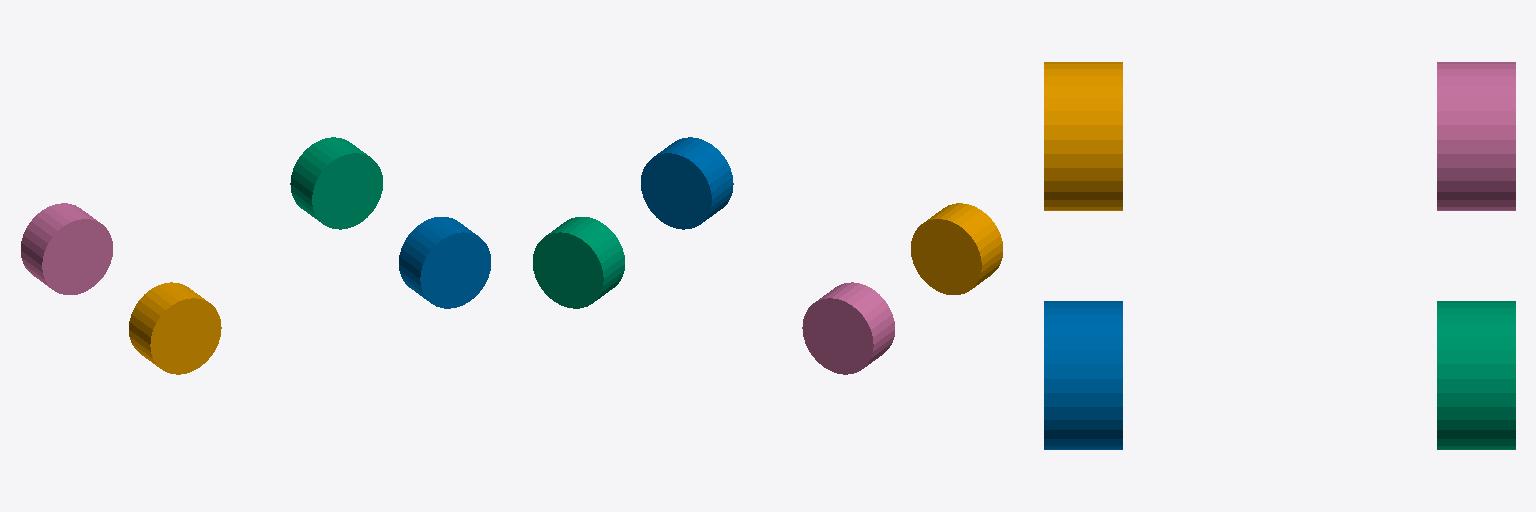
The robot description file, URDF, robot "DonkeyRobot":
<?xml version="1.0" ?>
<!-- =================================================================================== -->
<!-- |    This document was autogenerated by xacro from [local-path]/chonk/src/donkey_description/urdf/donkey.urdf.xacro | -->
<!-- |    EDITING THIS FILE BY HAND IS NOT RECOMMENDED                                 | -->
<!-- =================================================================================== -->
<robot name="DonkeyRobot">
  <!-- Base link-->
  <link name="base_link"/>
  <link name="donkey_base">
    <inertial>
      <mass value="200.0"/>
      <origin rpy="0 0 0" xyz="0.0 0.0 0.4485"/>
      <inertia ixx="21.14963333333333" ixy="0.0" ixz="0.0" iyy="29.71963333333333" iyz="0.0" izz="25.23163333333333"/>
    </inertial>
    <visual>
      <origin rpy="0 0 0" xyz="0.0 0.0 0.0"/>
      <geometry>
        <mesh filename="package://donkey_description/meshes/donkey_colourised_decimated.dae"/>
      </geometry>
    </visual>
    <collision>
      <origin rpy="0 0 0" xyz="0.0 0.0 0.4885"/>
      <geometry>
        <box size="1.007 0.707 0.727"/>
      </geometry>
    </collision>
  </link>
  <gazebo reference="donkey_base">
    <dampingFactor>0.001</dampingFactor>
  </gazebo>
  <joint name="donkey_base_link_joint" type="fixed">
    <child link="donkey_base"/>
    <parent link="base_link"/>
    <origin rpy="0 0 0" xyz="0 0 0"/>
  </joint>
  <link name="fl_wheel_link">
    <inertial>
      <mass value="8.0"/>
      <origin rpy="1.5707963267948966 0 0" xyz="0 0 0"/>
      <inertia ixx="0.024716666666666668" ixy="0" ixz="0" iyy="0.024716666666666668" iyz="0" izz="0.0361"/>
    </inertial>
    <visual>
      <origin rpy="1.5707963267948966 0 0" xyz="0 0 0"/>
      <geometry>
        <cylinder length="0.1" radius="0.095"/>
      </geometry>
    </visual>
  </link>
  <joint name="fl_wheel_joint" type="continuous">
    <axis xyz="0 1 0"/>
    <limit effort="100" velocity="100"/>
    <dynamics damping="0.0" friction="0.0"/>
    <safety_controller k_velocity="10.0"/>
    <origin rpy="0 0 0" xyz="0.36 0.25 0.095"/>
    <parent link="donkey_base"/>
    <child link="fl_wheel_link"/>
  </joint>
  <link name="fl_wheel_link_passive">
    <inertial>
      <mass value="1.0"/>
      <origin rpy="0 0 0" xyz="0 0 0"/>
      <inertia ixx="0.003610000000000001" ixy="0" ixz="0" iyy="0.003610000000000001" iyz="0" izz="0.003610000000000001"/>
    </inertial>
    <collision>
      <origin rpy="0 0 0" xyz="0 0 0"/>
      <geometry>
        <sphere radius="0.095"/>
      </geometry>
    </collision>
  </link>
  <joint name="fl_wheel_link_passive_joint" type="continuous">
    <axis xyz="0 1 0"/>
    <limit effort="100" velocity="100.0"/>
    <dynamics damping="0.0" friction="0.0"/>
    <safety_controller k_velocity="10.0"/>
    <origin rpy="0 0 0" xyz="0 0 0"/>
    <parent link="fl_wheel_link"/>
    <child link="fl_wheel_link_passive"/>
  </joint>
  <gazebo reference="fl_wheel_link_passive_joint">
    <implicitSpringDamper>1</implicitSpringDamper>
  </gazebo>
  <!-- Passive joint transmission with effort interface.
             Workaround to get all joints to publish a state.
             Do NOT use these joints for control! -->
  <transmission name="fl_wheel_link_passive_joint_trans">
    <type>transmission_interface/SimpleTransmission</type>
    <joint name="fl_wheel_link_passive_joint">
      <hardwareInterface>hardware_interface/EffortJointInterface</hardwareInterface>
    </joint>
    <actuator name="fl_wheel_link_passive_joint_motor">
      <mechanicalReduction>1</mechanicalReduction>
    </actuator>
  </transmission>
  <!-- Contact properties -->
  <gazebo reference="fl_wheel_link_passive">
    <mu>5</mu>
    <mu2>5</mu2>
    <dampingFactor>0.00001</dampingFactor>
    <selfCollide>0</selfCollide>
    <kp>1e6</kp>
    <kd>1e2</kd>
    <maxVel>2.0</maxVel>
    <minDepth>0.001</minDepth>
  </gazebo>
  <gazebo>
    <!-- Mecanum plugin -->
    <plugin filename="libmecanum_gazebo_plugin.so" name="fl_wheel_controller">
      <wheelLinkName>fl_wheel_link</wheelLinkName>
      <baseLinkName>base_link</baseLinkName>
      <axis>-1 1 0</axis>
    </plugin>
  </gazebo>
  <gazebo reference="fl_wheel_joint">
    <implicitSpringDamper>1</implicitSpringDamper>
  </gazebo>
  <gazebo reference="fl_wheel_link">
    <dampingFactor>0.001</dampingFactor>
  </gazebo>
  <transmission name="fl_wheel_joint_trans">
    <type>transmission_interface/SimpleTransmission</type>
    <joint name="fl_wheel_joint">
      <hardwareInterface>hardware_interface/VelocityJointInterface</hardwareInterface>
    </joint>
    <actuator name="fl_wheel_joint_motor">
      <mechanicalReduction>1</mechanicalReduction>
    </actuator>
  </transmission>
  <link name="fr_wheel_link">
    <inertial>
      <mass value="8.0"/>
      <origin rpy="1.5707963267948966 0 0" xyz="0 0 0"/>
      <inertia ixx="0.024716666666666668" ixy="0" ixz="0" iyy="0.024716666666666668" iyz="0" izz="0.0361"/>
    </inertial>
    <visual>
      <origin rpy="1.5707963267948966 0 0" xyz="0 0 0"/>
      <geometry>
        <cylinder length="0.1" radius="0.095"/>
      </geometry>
    </visual>
  </link>
  <joint name="fr_wheel_joint" type="continuous">
    <axis xyz="0 1 0"/>
    <limit effort="100" velocity="100"/>
    <dynamics damping="0.0" friction="0.0"/>
    <safety_controller k_velocity="10.0"/>
    <origin rpy="0 0 0" xyz="0.36 -0.25 0.095"/>
    <parent link="donkey_base"/>
    <child link="fr_wheel_link"/>
  </joint>
  <link name="fr_wheel_link_passive">
    <inertial>
      <mass value="1.0"/>
      <origin rpy="0 0 0" xyz="0 0 0"/>
      <inertia ixx="0.003610000000000001" ixy="0" ixz="0" iyy="0.003610000000000001" iyz="0" izz="0.003610000000000001"/>
    </inertial>
    <collision>
      <origin rpy="0 0 0" xyz="0 0 0"/>
      <geometry>
        <sphere radius="0.095"/>
      </geometry>
    </collision>
  </link>
  <joint name="fr_wheel_link_passive_joint" type="continuous">
    <axis xyz="0 1 0"/>
    <limit effort="100" velocity="100.0"/>
    <dynamics damping="0.0" friction="0.0"/>
    <safety_controller k_velocity="10.0"/>
    <origin rpy="0 0 0" xyz="0 0 0"/>
    <parent link="fr_wheel_link"/>
    <child link="fr_wheel_link_passive"/>
  </joint>
  <gazebo reference="fr_wheel_link_passive_joint">
    <implicitSpringDamper>1</implicitSpringDamper>
  </gazebo>
  <!-- Passive joint transmission with effort interface.
             Workaround to get all joints to publish a state.
             Do NOT use these joints for control! -->
  <transmission name="fr_wheel_link_passive_joint_trans">
    <type>transmission_interface/SimpleTransmission</type>
    <joint name="fr_wheel_link_passive_joint">
      <hardwareInterface>hardware_interface/EffortJointInterface</hardwareInterface>
    </joint>
    <actuator name="fr_wheel_link_passive_joint_motor">
      <mechanicalReduction>1</mechanicalReduction>
    </actuator>
  </transmission>
  <!-- Contact properties -->
  <gazebo reference="fr_wheel_link_passive">
    <mu>5</mu>
    <mu2>5</mu2>
    <dampingFactor>0.00001</dampingFactor>
    <selfCollide>0</selfCollide>
    <kp>1e6</kp>
    <kd>1e2</kd>
    <maxVel>2.0</maxVel>
    <minDepth>0.001</minDepth>
  </gazebo>
  <gazebo>
    <!-- Mecanum plugin -->
    <plugin filename="libmecanum_gazebo_plugin.so" name="fr_wheel_controller">
      <wheelLinkName>fr_wheel_link</wheelLinkName>
      <baseLinkName>base_link</baseLinkName>
      <axis>-1 -1 0</axis>
    </plugin>
  </gazebo>
  <gazebo reference="fr_wheel_joint">
    <implicitSpringDamper>1</implicitSpringDamper>
  </gazebo>
  <gazebo reference="fr_wheel_link">
    <dampingFactor>0.001</dampingFactor>
  </gazebo>
  <transmission name="fr_wheel_joint_trans">
    <type>transmission_interface/SimpleTransmission</type>
    <joint name="fr_wheel_joint">
      <hardwareInterface>hardware_interface/VelocityJointInterface</hardwareInterface>
    </joint>
    <actuator name="fr_wheel_joint_motor">
      <mechanicalReduction>1</mechanicalReduction>
    </actuator>
  </transmission>
  <link name="rl_wheel_link">
    <inertial>
      <mass value="8.0"/>
      <origin rpy="1.5707963267948966 0 0" xyz="0 0 0"/>
      <inertia ixx="0.024716666666666668" ixy="0" ixz="0" iyy="0.024716666666666668" iyz="0" izz="0.0361"/>
    </inertial>
    <visual>
      <origin rpy="1.5707963267948966 0 0" xyz="0 0 0"/>
      <geometry>
        <cylinder length="0.1" radius="0.095"/>
      </geometry>
    </visual>
  </link>
  <joint name="rl_wheel_joint" type="continuous">
    <axis xyz="0 1 0"/>
    <limit effort="100" velocity="100"/>
    <dynamics damping="0.0" friction="0.0"/>
    <safety_controller k_velocity="10.0"/>
    <origin rpy="0 0 0" xyz="-0.36 0.25 0.095"/>
    <parent link="donkey_base"/>
    <child link="rl_wheel_link"/>
  </joint>
  <link name="rl_wheel_link_passive">
    <inertial>
      <mass value="1.0"/>
      <origin rpy="0 0 0" xyz="0 0 0"/>
      <inertia ixx="0.003610000000000001" ixy="0" ixz="0" iyy="0.003610000000000001" iyz="0" izz="0.003610000000000001"/>
    </inertial>
    <collision>
      <origin rpy="0 0 0" xyz="0 0 0"/>
      <geometry>
        <sphere radius="0.095"/>
      </geometry>
    </collision>
  </link>
  <joint name="rl_wheel_link_passive_joint" type="continuous">
    <axis xyz="0 1 0"/>
    <limit effort="100" velocity="100.0"/>
    <dynamics damping="0.0" friction="0.0"/>
    <safety_controller k_velocity="10.0"/>
    <origin rpy="0 0 0" xyz="0 0 0"/>
    <parent link="rl_wheel_link"/>
    <child link="rl_wheel_link_passive"/>
  </joint>
  <gazebo reference="rl_wheel_link_passive_joint">
    <implicitSpringDamper>1</implicitSpringDamper>
  </gazebo>
  <!-- Passive joint transmission with effort interface.
             Workaround to get all joints to publish a state.
             Do NOT use these joints for control! -->
  <transmission name="rl_wheel_link_passive_joint_trans">
    <type>transmission_interface/SimpleTransmission</type>
    <joint name="rl_wheel_link_passive_joint">
      <hardwareInterface>hardware_interface/EffortJointInterface</hardwareInterface>
    </joint>
    <actuator name="rl_wheel_link_passive_joint_motor">
      <mechanicalReduction>1</mechanicalReduction>
    </actuator>
  </transmission>
  <!-- Contact properties -->
  <gazebo reference="rl_wheel_link_passive">
    <mu>5</mu>
    <mu2>5</mu2>
    <dampingFactor>0.00001</dampingFactor>
    <selfCollide>0</selfCollide>
    <kp>1e6</kp>
    <kd>1e2</kd>
    <maxVel>2.0</maxVel>
    <minDepth>0.001</minDepth>
  </gazebo>
  <gazebo>
    <!-- Mecanum plugin -->
    <plugin filename="libmecanum_gazebo_plugin.so" name="rl_wheel_controller">
      <wheelLinkName>rl_wheel_link</wheelLinkName>
      <baseLinkName>base_link</baseLinkName>
      <axis>1 1 0</axis>
    </plugin>
  </gazebo>
  <gazebo reference="rl_wheel_joint">
    <implicitSpringDamper>1</implicitSpringDamper>
  </gazebo>
  <gazebo reference="rl_wheel_link">
    <dampingFactor>0.001</dampingFactor>
  </gazebo>
  <transmission name="rl_wheel_joint_trans">
    <type>transmission_interface/SimpleTransmission</type>
    <joint name="rl_wheel_joint">
      <hardwareInterface>hardware_interface/VelocityJointInterface</hardwareInterface>
    </joint>
    <actuator name="rl_wheel_joint_motor">
      <mechanicalReduction>1</mechanicalReduction>
    </actuator>
  </transmission>
  <link name="rr_wheel_link">
    <inertial>
      <mass value="8.0"/>
      <origin rpy="1.5707963267948966 0 0" xyz="0 0 0"/>
      <inertia ixx="0.024716666666666668" ixy="0" ixz="0" iyy="0.024716666666666668" iyz="0" izz="0.0361"/>
    </inertial>
    <visual>
      <origin rpy="1.5707963267948966 0 0" xyz="0 0 0"/>
      <geometry>
        <cylinder length="0.1" radius="0.095"/>
      </geometry>
    </visual>
  </link>
  <joint name="rr_wheel_joint" type="continuous">
    <axis xyz="0 1 0"/>
    <limit effort="100" velocity="100"/>
    <dynamics damping="0.0" friction="0.0"/>
    <safety_controller k_velocity="10.0"/>
    <origin rpy="0 0 0" xyz="-0.36 -0.25 0.095"/>
    <parent link="donkey_base"/>
    <child link="rr_wheel_link"/>
  </joint>
  <link name="rr_wheel_link_passive">
    <inertial>
      <mass value="1.0"/>
      <origin rpy="0 0 0" xyz="0 0 0"/>
      <inertia ixx="0.003610000000000001" ixy="0" ixz="0" iyy="0.003610000000000001" iyz="0" izz="0.003610000000000001"/>
    </inertial>
    <collision>
      <origin rpy="0 0 0" xyz="0 0 0"/>
      <geometry>
        <sphere radius="0.095"/>
      </geometry>
    </collision>
  </link>
  <joint name="rr_wheel_link_passive_joint" type="continuous">
    <axis xyz="0 1 0"/>
    <limit effort="100" velocity="100.0"/>
    <dynamics damping="0.0" friction="0.0"/>
    <safety_controller k_velocity="10.0"/>
    <origin rpy="0 0 0" xyz="0 0 0"/>
    <parent link="rr_wheel_link"/>
    <child link="rr_wheel_link_passive"/>
  </joint>
  <gazebo reference="rr_wheel_link_passive_joint">
    <implicitSpringDamper>1</implicitSpringDamper>
  </gazebo>
  <!-- Passive joint transmission with effort interface.
             Workaround to get all joints to publish a state.
             Do NOT use these joints for control! -->
  <transmission name="rr_wheel_link_passive_joint_trans">
    <type>transmission_interface/SimpleTransmission</type>
    <joint name="rr_wheel_link_passive_joint">
      <hardwareInterface>hardware_interface/EffortJointInterface</hardwareInterface>
    </joint>
    <actuator name="rr_wheel_link_passive_joint_motor">
      <mechanicalReduction>1</mechanicalReduction>
    </actuator>
  </transmission>
  <!-- Contact properties -->
  <gazebo reference="rr_wheel_link_passive">
    <mu>5</mu>
    <mu2>5</mu2>
    <dampingFactor>0.00001</dampingFactor>
    <selfCollide>0</selfCollide>
    <kp>1e6</kp>
    <kd>1e2</kd>
    <maxVel>2.0</maxVel>
    <minDepth>0.001</minDepth>
  </gazebo>
  <gazebo>
    <!-- Mecanum plugin -->
    <plugin filename="libmecanum_gazebo_plugin.so" name="rr_wheel_controller">
      <wheelLinkName>rr_wheel_link</wheelLinkName>
      <baseLinkName>base_link</baseLinkName>
      <axis>1 -1 0</axis>
    </plugin>
  </gazebo>
  <gazebo reference="rr_wheel_joint">
    <implicitSpringDamper>1</implicitSpringDamper>
  </gazebo>
  <gazebo reference="rr_wheel_link">
    <dampingFactor>0.001</dampingFactor>
  </gazebo>
  <transmission name="rr_wheel_joint_trans">
    <type>transmission_interface/SimpleTransmission</type>
    <joint name="rr_wheel_joint">
      <hardwareInterface>hardware_interface/VelocityJointInterface</hardwareInterface>
    </joint>
    <actuator name="rr_wheel_joint_motor">
      <mechanicalReduction>1</mechanicalReduction>
    </actuator>
  </transmission>
  <gazebo>
    <plugin filename="libgazebo_ros_control.so" name="gazebo_ros_control">
      <robotNamespace>/donkey</robotNamespace>
    </plugin>
  </gazebo>
  <link name="dummy_link"/>
  <joint name="donkey_base_mount_joint" type="fixed">
    <child link="dummy_link"/>
    <parent link="base_link"/>
    <origin rpy="0 0 0" xyz="0.0 0.0 0.0"/>
  </joint>
</robot>

--- Render facts (derived) ---
3 views of the same robot in one strip: view 1: azimuth 30°, elevation 25°; view 2: azimuth 150°, elevation 25°; view 3: azimuth 270°, elevation 25° (orthographic).
Robot: DonkeyRobot — 11 links, 10 joints (8 continuous, 2 fixed); root link base_link; default pose: all joints at 0.
Visible links, largest first — view 1: fl_wheel_link, rr_wheel_link, fr_wheel_link, rl_wheel_link; view 2: fr_wheel_link, rl_wheel_link, fl_wheel_link, rr_wheel_link; view 3: fl_wheel_link, fr_wheel_link, rl_wheel_link, rr_wheel_link.
Boxes of the visible links, bbox=[...] form: fl_wheel_link: bbox=[290, 137, 382, 229]; rr_wheel_link: bbox=[129, 282, 221, 374]; fr_wheel_link: bbox=[399, 217, 490, 308]; rl_wheel_link: bbox=[21, 203, 112, 294]; fr_wheel_link: bbox=[641, 137, 733, 229]; rl_wheel_link: bbox=[802, 282, 894, 374]; fl_wheel_link: bbox=[533, 217, 624, 308]; rr_wheel_link: bbox=[911, 203, 1002, 294]; fl_wheel_link: bbox=[1437, 301, 1515, 449]; fr_wheel_link: bbox=[1044, 301, 1122, 449]; rl_wheel_link: bbox=[1437, 62, 1515, 210]; rr_wheel_link: bbox=[1044, 62, 1122, 210].
Size in the robot's own frame: 0.91 by 0.6 by 0.19 metres.
0 mesh visuals loaded from 1 distinct referenced files (none loaded); not drawn: 1 (reference not matched to a file when rendering).